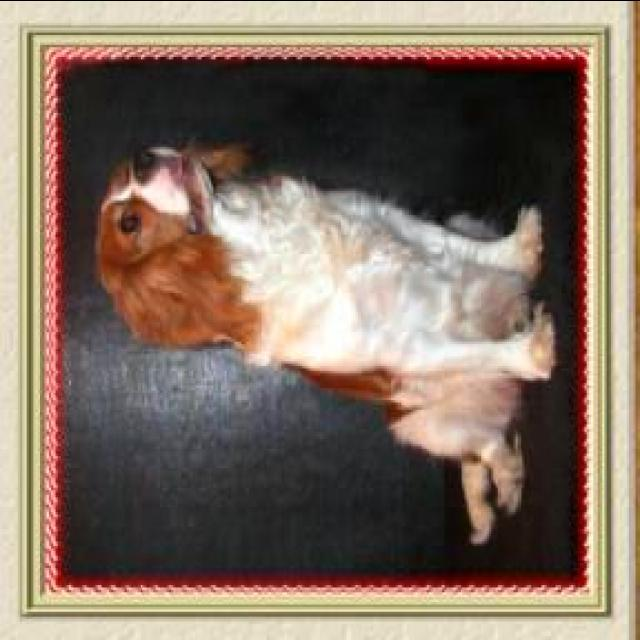blenheim_spaniel: (91, 132, 560, 546)
